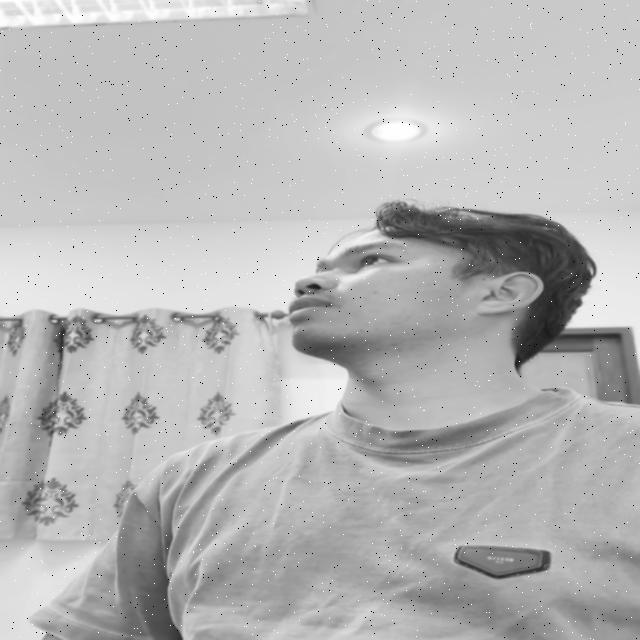ear: (476, 272, 543, 315)
